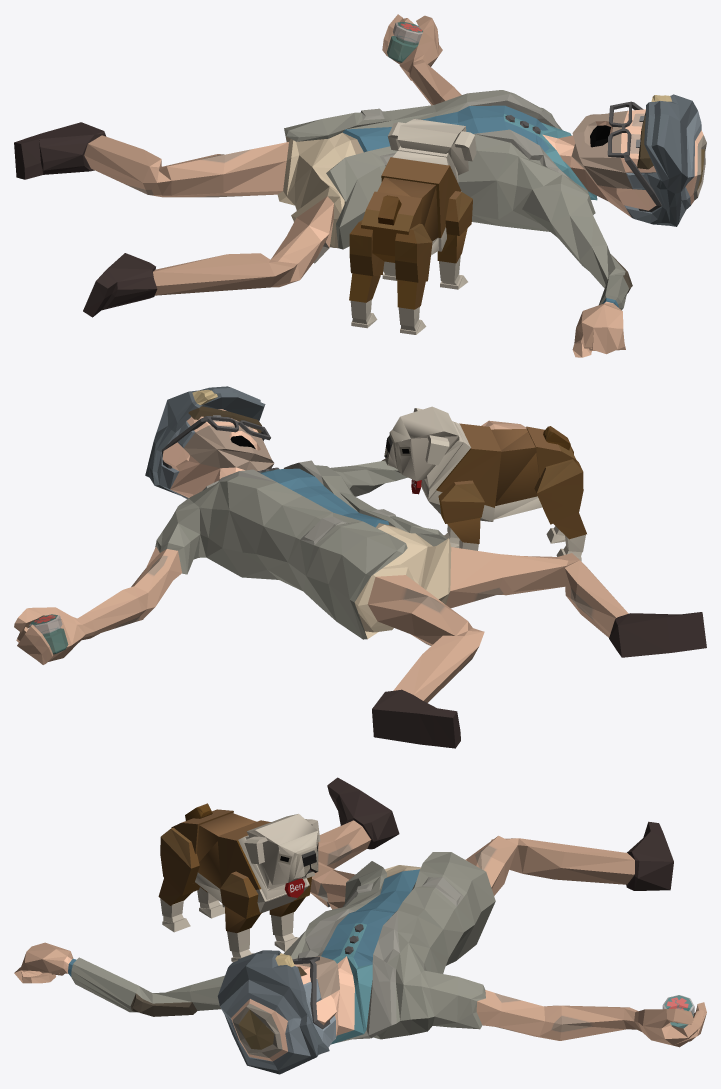
The model's file is kapitel.1.glb.
3 views of the same model, one above another, from view 1: azimuth 30°, elevation 25°; view 2: azimuth 150°, elevation 25°; view 3: azimuth 270°, elevation 25° (orthographic). The views are drawn at different scales.
Parts seen in each view (by area): view 1: Old Man Dead, SM_BullDog_03, Pills; view 2: Old Man Dead, SM_BullDog_03, Pills; view 3: Old Man Dead, SM_BullDog_03, Pills.
Part boxes in pixels (<box>): Old Man Dead: <box>14,14,706,357</box>; SM_BullDog_03: <box>349,118,476,334</box>; Pills: <box>387,22,422,62</box>; Old Man Dead: <box>14,386,706,748</box>; SM_BullDog_03: <box>384,406,586,561</box>; Pills: <box>29,614,68,654</box>; Old Man Dead: <box>14,777,706,1074</box>; SM_BullDog_03: <box>158,803,320,962</box>; Pills: <box>662,995,694,1028</box>.
Size of the model in its own units: 1.7 by 0.3964 by 1.82.
4 materials, 4 textured.
